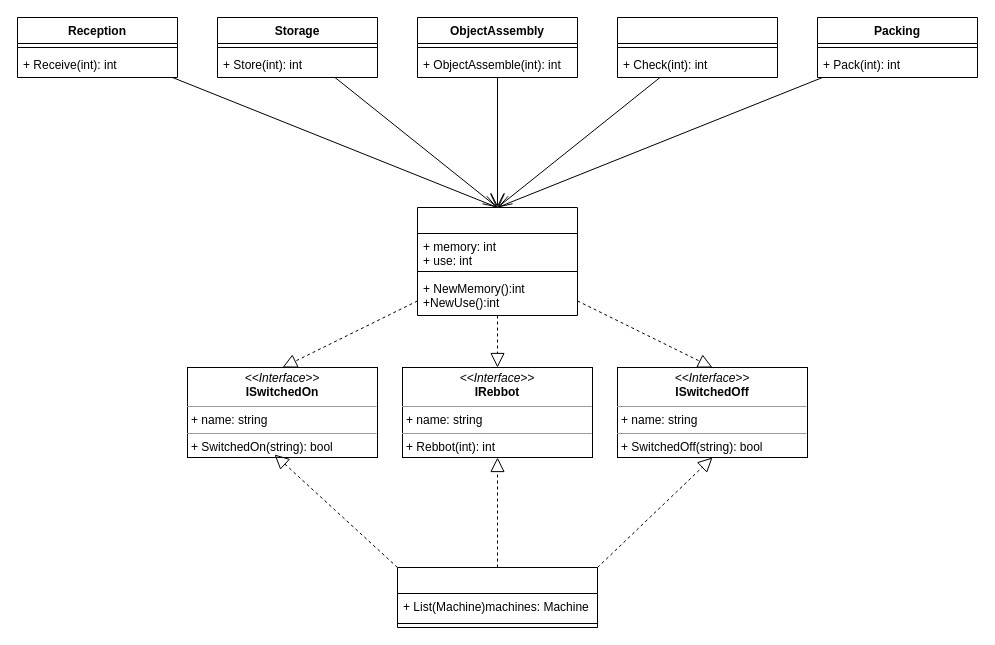
This 995x645 diagram has some shape labels left out. Each missing label, with the box of its shape:
CentralComputer: (396, 566, 598, 628)
Machine: (416, 206, 578, 316)
QuialityCheck: (616, 16, 778, 78)
